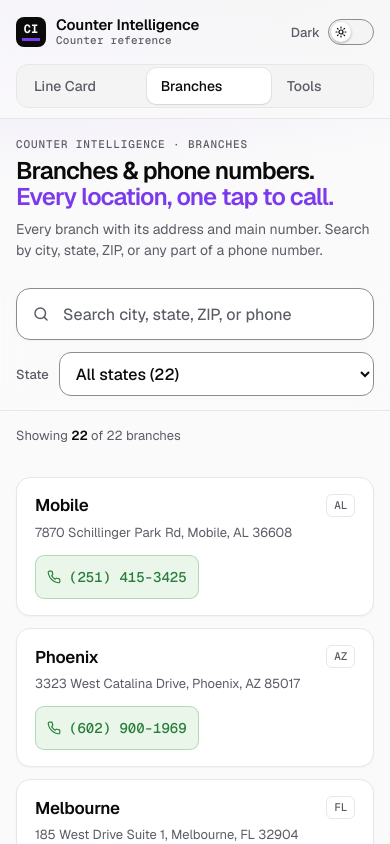
Test: Branches › offers the states as one labeled dropdown on a phone, and picking one filters the list
The width and height of the screenshot is (390, 844).
Select "Texas (4)" in the dropdown with test id "filter-select" showing "State" at (217, 374), box 59,352 -> 374,396
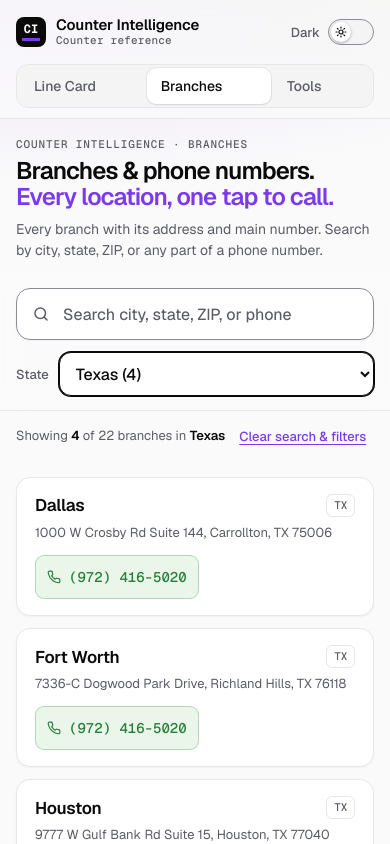
Expected: the element with test id "branch-card" shows "TX", 16,477 -> 374,616
Now the number of elements with test id "branch-card" is 4
